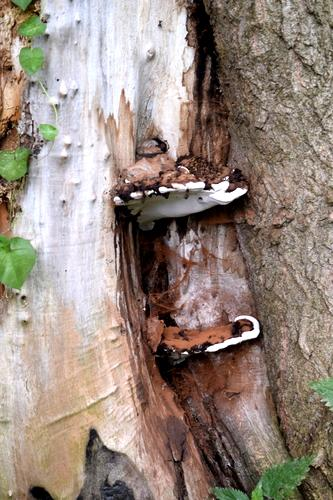Ganoderma - Fruit Body: (125, 142, 254, 235)
